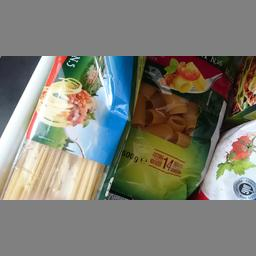pasta: (0, 56, 141, 199)
